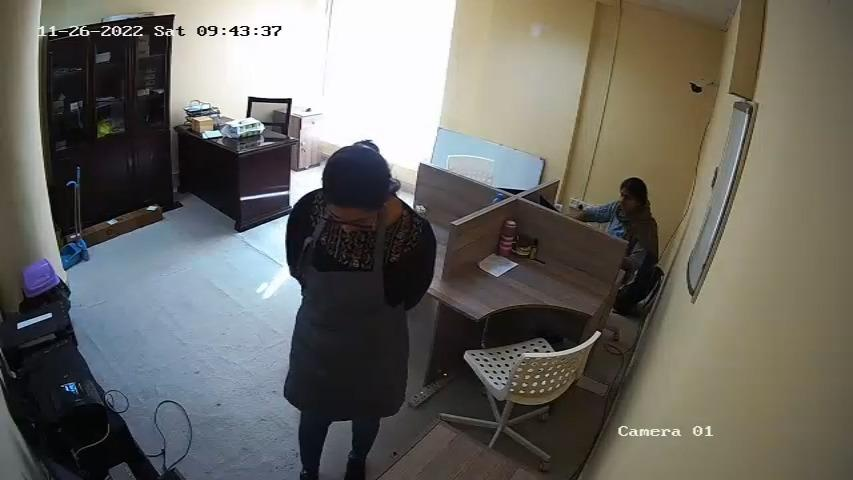apron: (299, 230, 393, 410)
